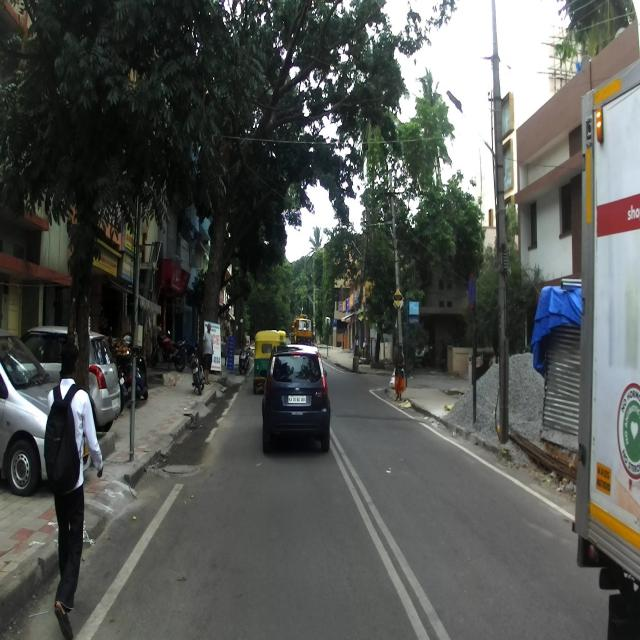Car_Ford: (259, 342, 331, 454)
Car_Maruti-Suzuki: (19, 324, 121, 432)
